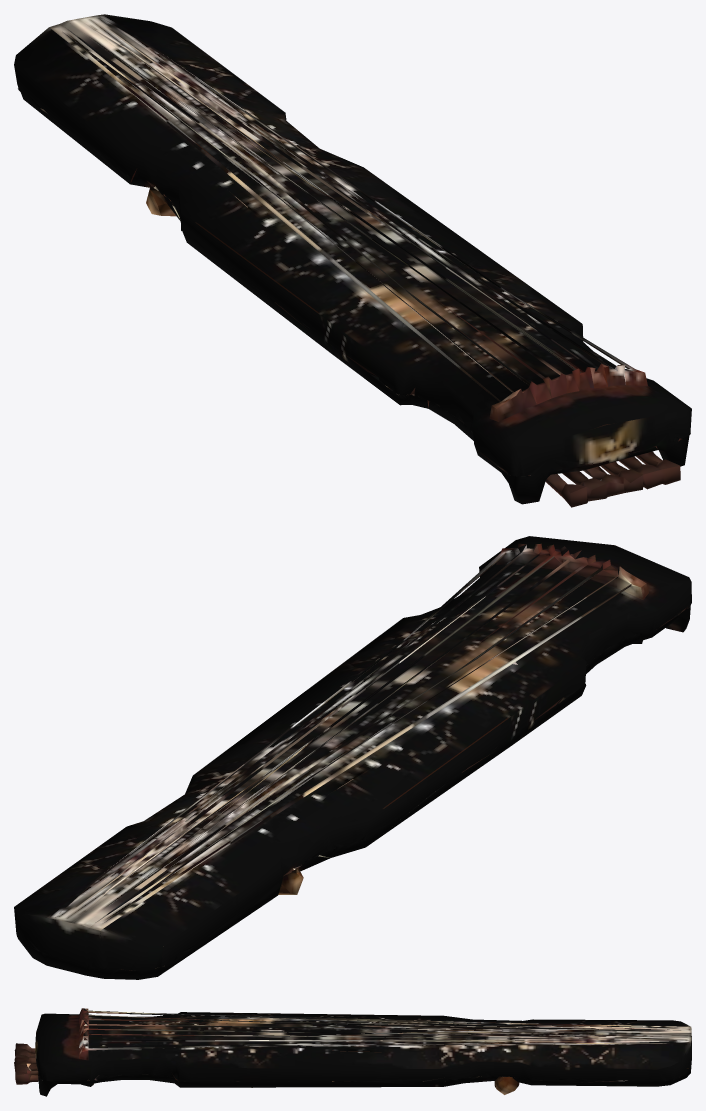
The model's file is guqin.glb.
The picture shows the model from 3 angles, top to bottom: view 1: azimuth 30°, elevation 25°; view 2: azimuth 150°, elevation 25°; view 3: azimuth 270°, elevation 25°; orthographic projection. The views are drawn at different scales.
Parts seen in each view (by area): view 1: 古琴; view 2: 古琴; view 3: 古琴.
Boxes of the visible parts, bbox=[...] form: 古琴: bbox=[14, 14, 691, 507]; 古琴: bbox=[14, 536, 691, 979]; 古琴: bbox=[14, 1008, 691, 1096].
Bounding box in the file's own units: 0.255 × 0.12 × 1.32.
Materials: 1 (1 with a texture image).
